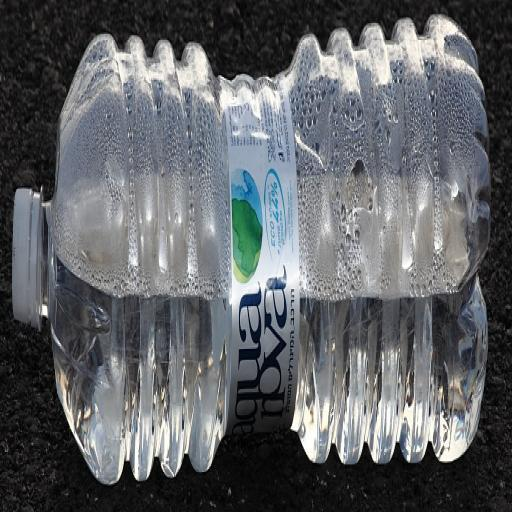bottle: (9, 9, 497, 497)
